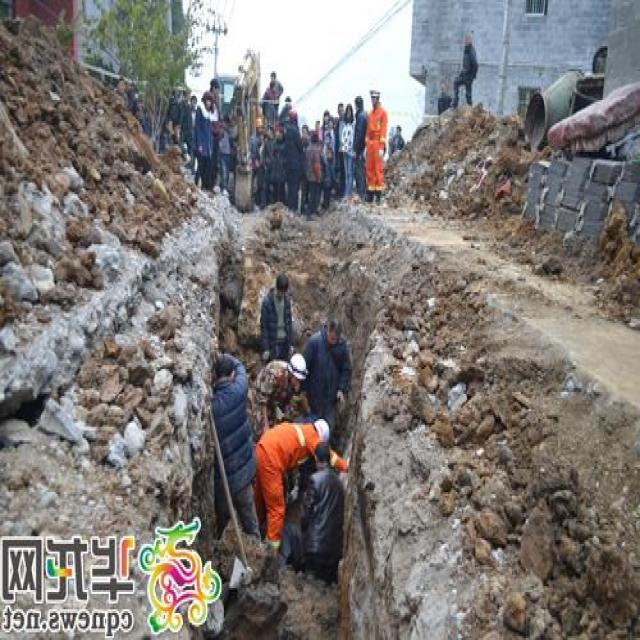Reflective-Jacket: (256, 417, 316, 461), (365, 108, 388, 184)
Safety-Helmet: (291, 352, 307, 376), (316, 417, 330, 442), (276, 273, 290, 290)
